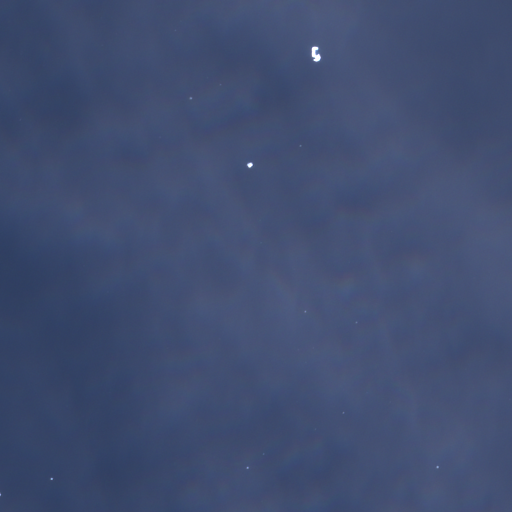Iceberg: (312, 46, 320, 61), (247, 162, 252, 167), (190, 97, 191, 99), (436, 466, 438, 467), (300, 145, 301, 146), (304, 311, 305, 312), (247, 467, 248, 468), (51, 478, 52, 479)
